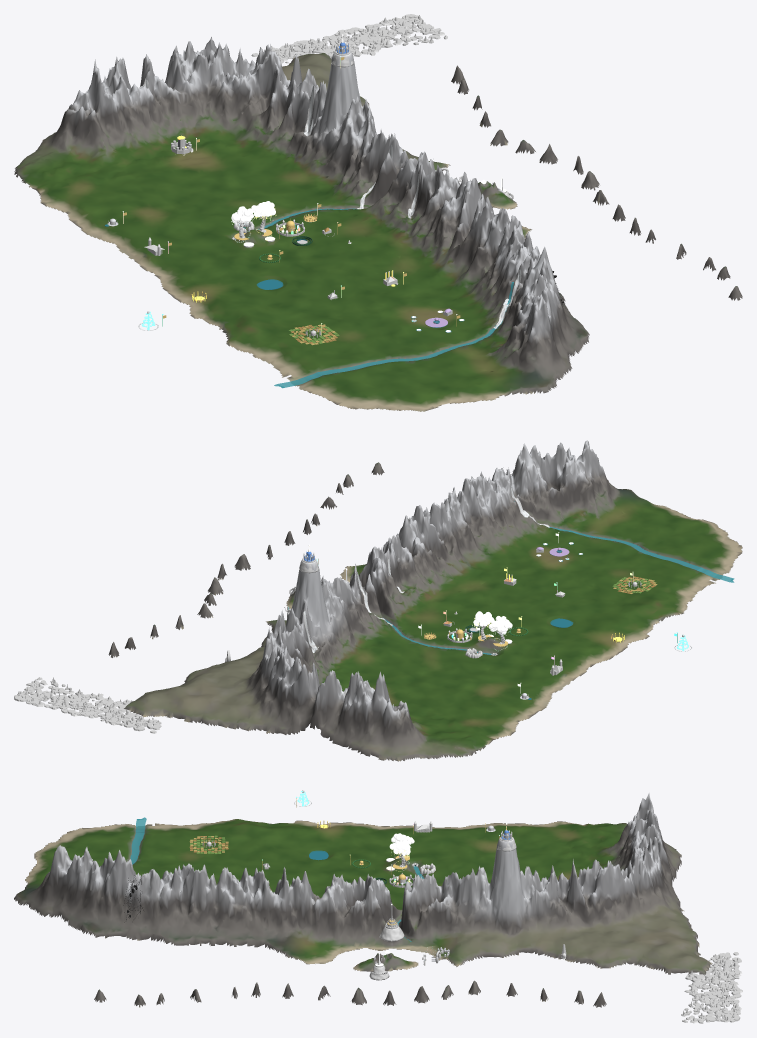
Rendered from aman_web.glb.
3 renders of one model, top to bottom at view 1: azimuth 30°, elevation 25°; view 2: azimuth 150°, elevation 25°; view 3: azimuth 270°, elevation 25°, orthographic. The views are drawn at different scales.
Parts seen in each view (by area): view 1: WEB_Terreno, Helcaraxe, Rio_Nen, Yavanna; view 2: WEB_Terreno, Helcaraxe, Rio_Nen, Yavanna; view 3: WEB_Terreno, Helcaraxe, Yavanna, Rio_Nen.
Boxes of the visible parts, x1,y1,x2,y2 form: WEB_Terreno: (14,37,742,411); Helcaraxe: (251,14,447,63); Rio_Nen: (274,282,513,388); Yavanna: (289,324,339,345); WEB_Terreno: (108,440,742,761); Helcaraxe: (14,677,161,733); Rio_Nen: (514,501,734,582); Yavanna: (612,576,657,593); WEB_Terreno: (14,793,712,1007); Helcaraxe: (681,952,742,1023); Yavanna: (189,835,228,854); Rio_Nen: (130,817,146,864).
Size of the model in its own units: 50.75 by 13.04 by 69.86.
